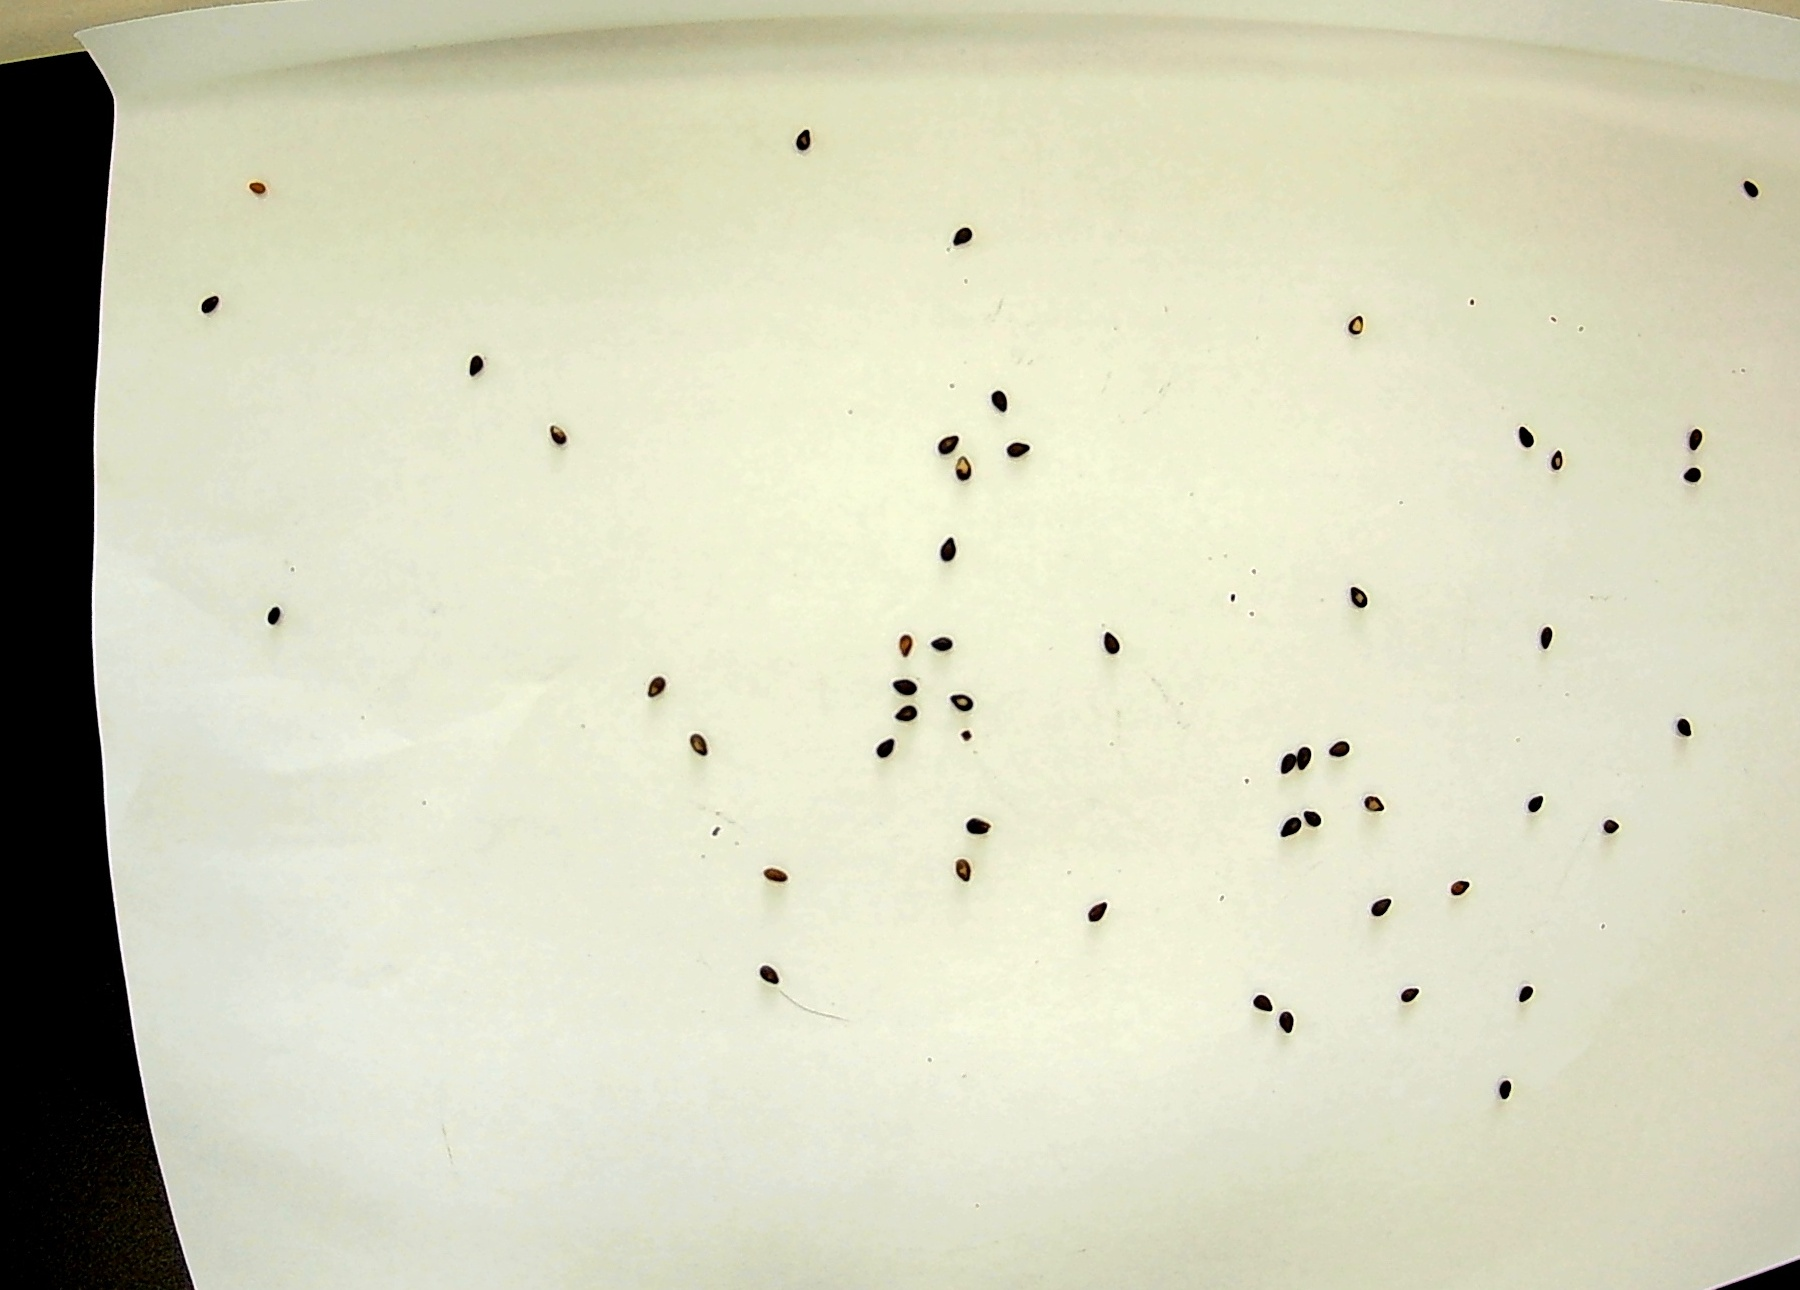sesami: (455, 345, 488, 376), (946, 218, 980, 249), (928, 539, 961, 570), (915, 634, 949, 665), (892, 666, 925, 697), (942, 687, 975, 718), (954, 814, 988, 845), (642, 676, 675, 706), (741, 961, 774, 991), (1299, 807, 1333, 838), (1299, 739, 1333, 769), (1266, 741, 1299, 772), (1278, 1004, 1312, 1035), (1662, 708, 1695, 739), (1545, 447, 1578, 477), (1680, 422, 1713, 452), (1337, 310, 1370, 341), (1003, 437, 1035, 468), (927, 419, 959, 450), (943, 458, 975, 489), (873, 734, 906, 765), (1268, 815, 1300, 846), (1353, 787, 1386, 818), (1365, 887, 1397, 917), (1485, 1081, 1517, 1111), (1515, 785, 1547, 815), (1506, 412, 1538, 443), (1686, 458, 1718, 489), (1732, 172, 1764, 202), (193, 289, 226, 318), (248, 598, 282, 627), (543, 423, 576, 452), (784, 119, 818, 148), (984, 390, 1017, 419), (880, 631, 914, 660), (893, 692, 927, 722), (945, 853, 978, 882), (688, 720, 721, 750), (1080, 900, 1113, 930), (1097, 631, 1130, 660), (1324, 739, 1358, 768), (1242, 980, 1275, 1009), (1504, 984, 1538, 1014), (1447, 866, 1480, 895), (1522, 618, 1556, 648), (753, 861, 786, 891), (1388, 977, 1420, 1007), (1598, 804, 1630, 833), (1342, 584, 1374, 613), (241, 180, 269, 197)
